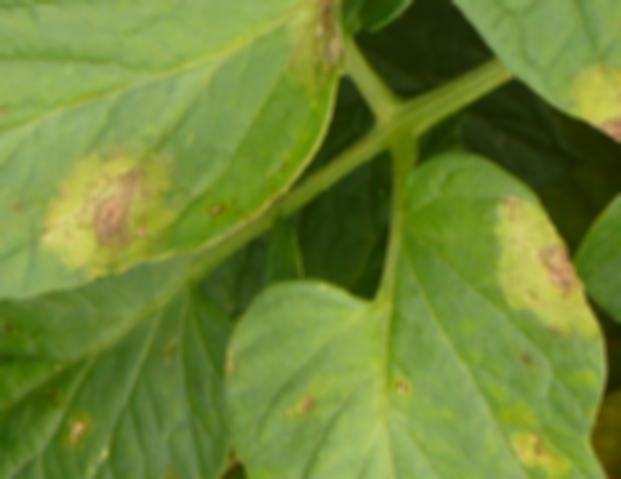Tomato Early blight leaf: (222, 166, 619, 479), (0, 0, 385, 315)
